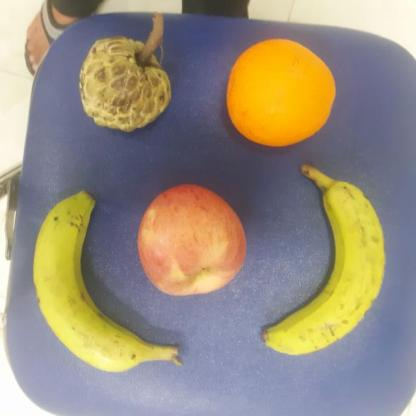annona: (74, 35, 174, 137)
apple: (134, 184, 247, 300)
banana: (259, 179, 387, 359), (30, 192, 146, 372)
orange: (224, 35, 338, 149)
